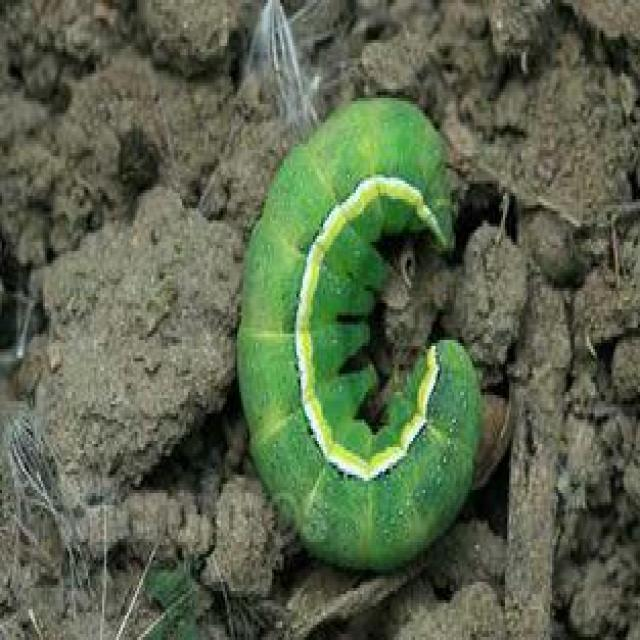BeetArmyWorm-Larva-: (211, 85, 496, 575)
